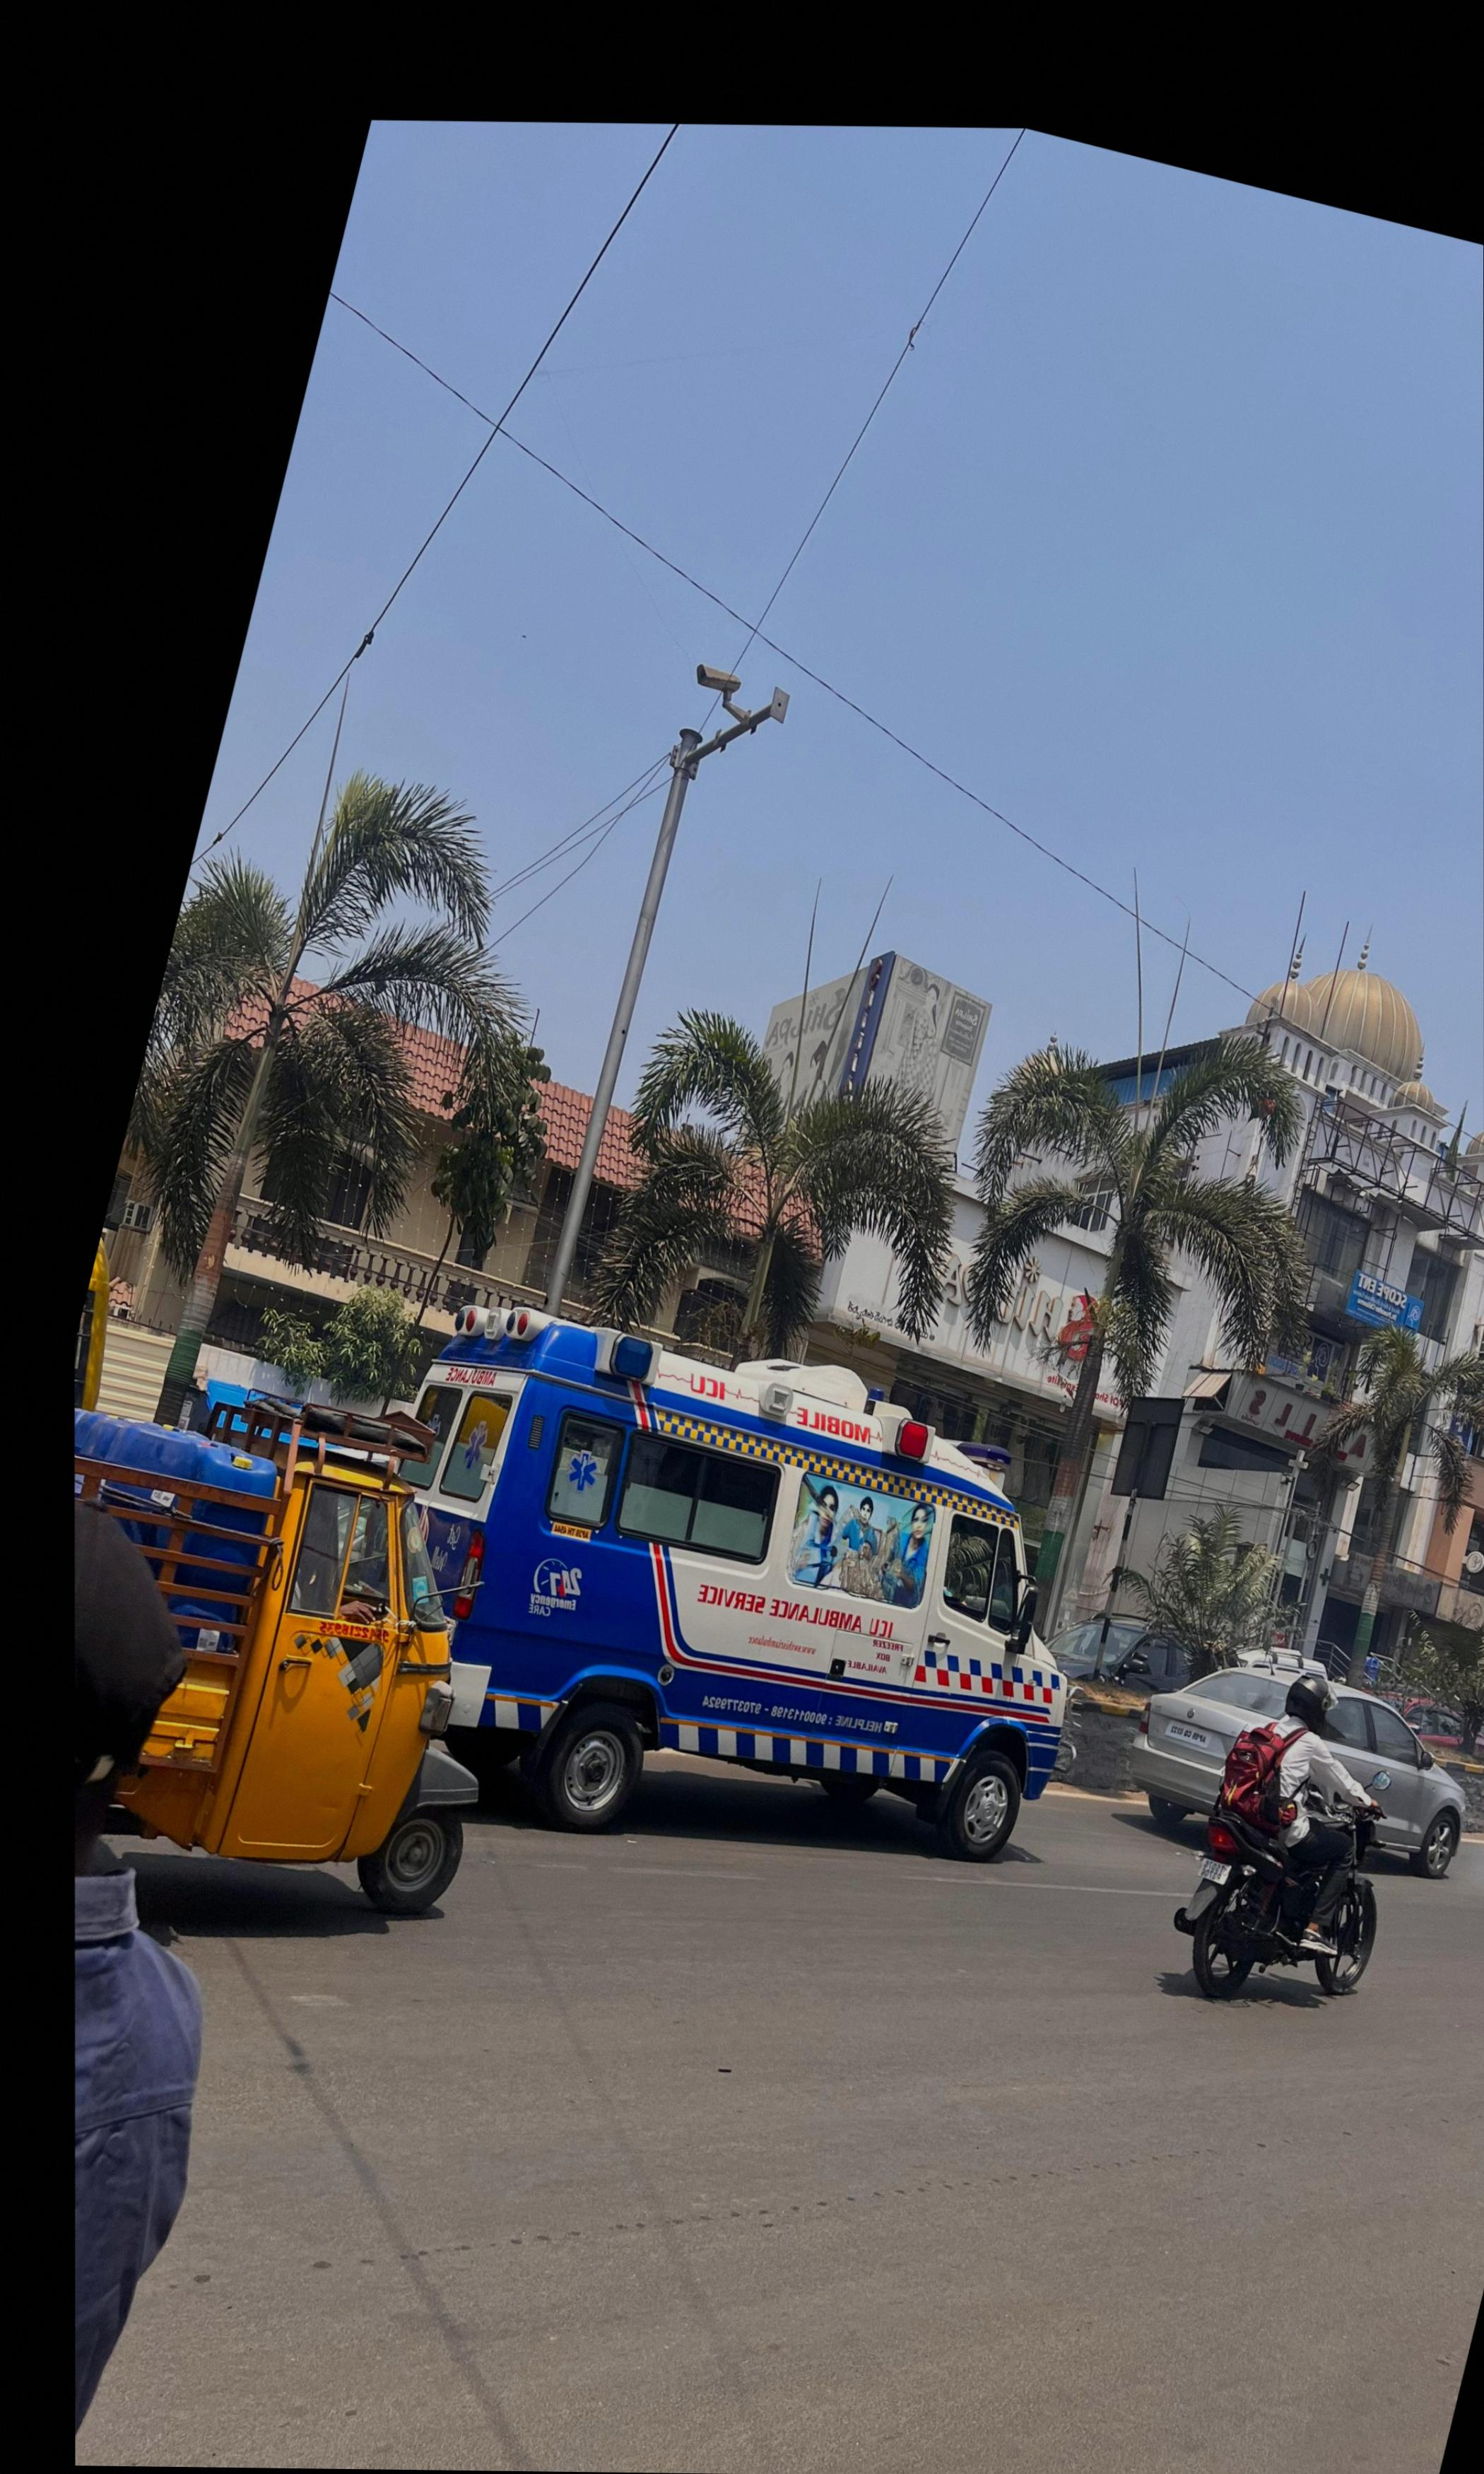ambulance: (420, 1318, 1064, 1866)
